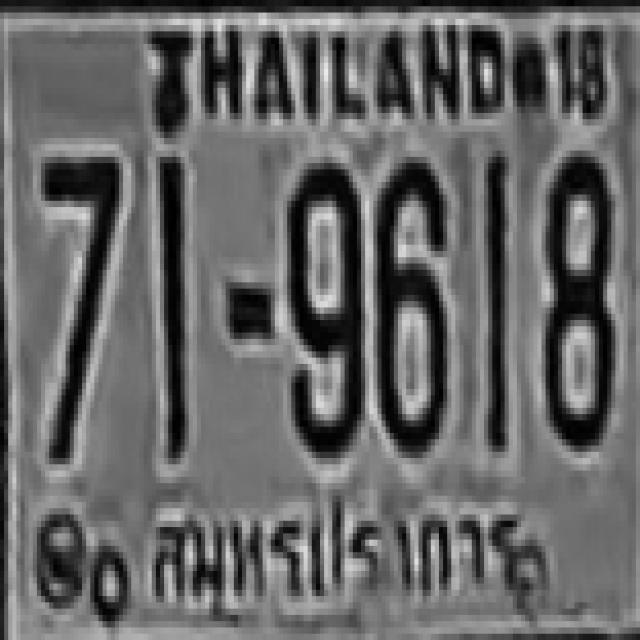1: (156, 154, 185, 455), (482, 148, 507, 442), (158, 154, 183, 442)
6: (373, 154, 443, 448)
7: (39, 151, 117, 458), (39, 150, 117, 427), (39, 150, 117, 352)
8: (542, 148, 611, 442)
9: (283, 157, 361, 452)
SamutPrakan: (145, 481, 538, 617)
